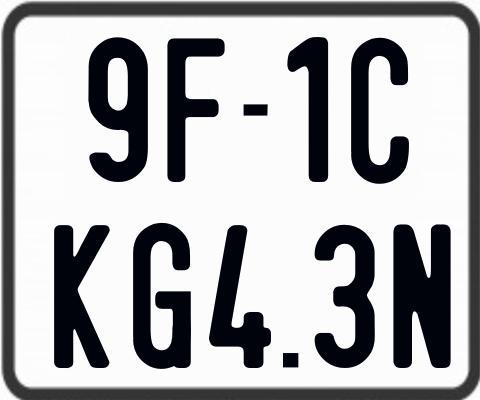1: (287, 34, 331, 182)
3: (312, 224, 373, 370)
4: (206, 224, 272, 372)
9: (88, 37, 148, 186)
C: (348, 35, 407, 183)
F: (164, 38, 223, 187)
G: (132, 223, 192, 374)
K: (54, 224, 116, 370)
N: (391, 222, 449, 372)
